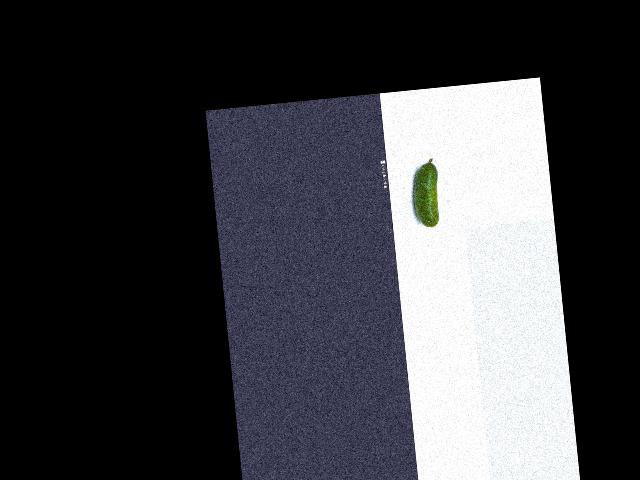cucumber: (410, 157, 442, 229)
